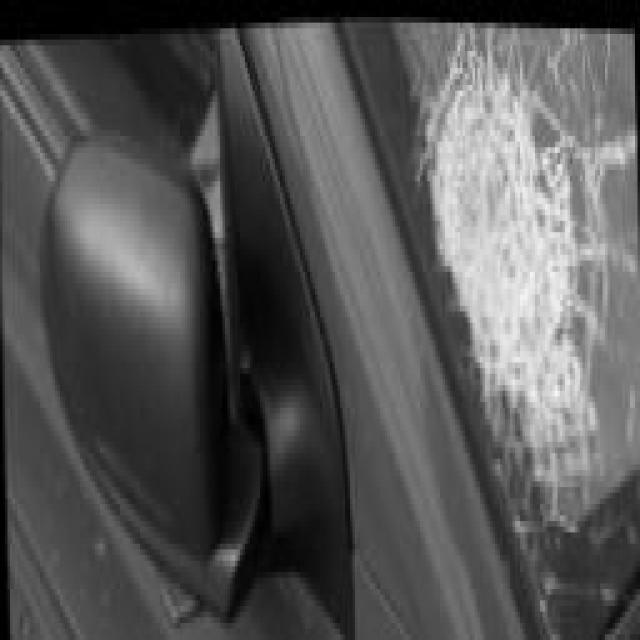Windshield: (398, 17, 640, 582)
